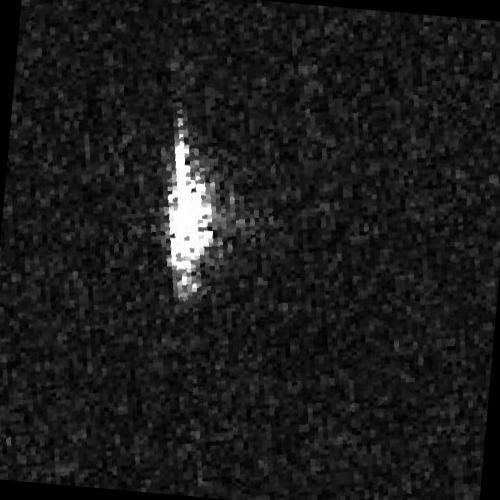ship: (166, 132, 209, 295)
